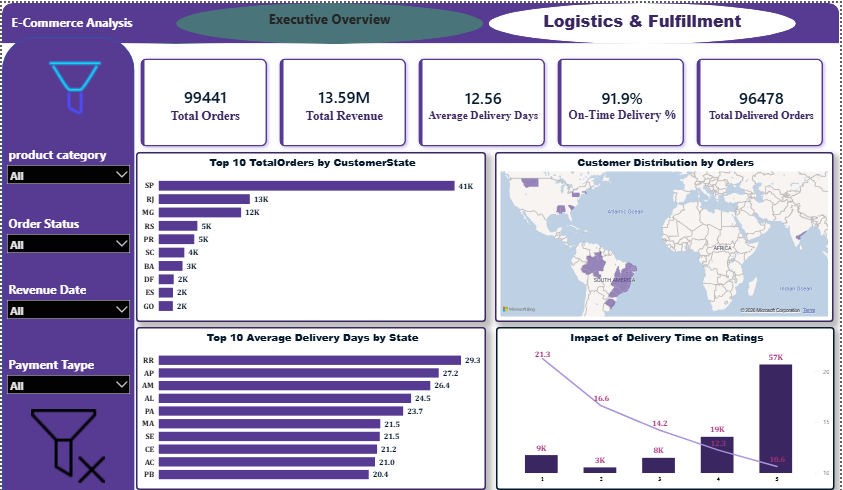

The page's visual inventory and layout, read from the dashboard file:
{"tool":"powerbi","page":{"name":"Logistics & Fulfillment","canvas":[1675,980],"ordinal":1},"visuals":[{"type":"cardVisual","fields":{"Data":["_Measures.Total Orders","_Measures.Total Revenue","_Measures.Average Delivery Days","_Measures.On-Time Delivery %","_Measures.Total Delivered Orders"]},"box":[248,82,1426,234],"z":0},{"type":"pageNavigator","box":[39.8,0,1240.2,82.8],"z":1000},{"type":"shape","box":[0,0,1674.4,81],"z":2000},{"type":"shape","box":[0,67.5,265,912.5],"z":3000},{"type":"pageNavigator","box":[347.8,0,1240.2,82.8],"z":4000},{"type":"textbox","box":[14.7,16.6,303.6,51.5],"z":5000},{"type":"clusteredBarChart","title":"Top 10 TotalOrders by CustomerState","fields":{"Category":["vw_CustomerGeography.CustomerState"],"Y":["Sum(vw_CustomerGeography.TotalOrders)"]},"box":[268,298,700,340],"z":6000},{"type":"filledMap","title":"Customer Distribution by Orders","fields":{"Category":["vw_CustomerGeography.CustomerState"]},"box":[986.7,298.3,676.7,340],"z":7000},{"type":"clusteredBarChart","title":"Top 10 Average Delivery Days by State","fields":{"Category":["vw_State_Delivery_Performance.customer_state"],"Y":["Sum(vw_State_Delivery_Performance.avg_delivery_days)"]},"box":[268,648,700,326],"z":8000},{"type":"lineClusteredColumnComboChart","title":"Impact of Delivery Time on Ratings","fields":{"Y":["Sum(vw_Delivery_vs_Reviews.total_reviews)"],"Category":["vw_Delivery_vs_Reviews.review_score"],"Y2":["Sum(vw_Delivery_vs_Reviews.avg_delivery_days)"]},"box":[987,648,677,326],"z":9000},{"type":"slicer","fields":{"Values":["vw_Product_Category_Performance.product_category_name_english"]},"box":[0,280,266,98],"z":9001},{"type":"slicer","fields":{"Values":["vw_OrderStatusBreakdown.order_status"]},"box":[0,418,266,98],"z":9002},{"type":"image","box":[58,96,176,146],"z":9003},{"type":"slicer","fields":{"Values":["vw_MonthlySales.SalesYear","vw_MonthlySales.SalesMonth"]},"box":[0,574,266,98],"z":9004},{"type":"slicer","fields":{"Values":["vw_Payment_Type_Performance.payment_type"]},"box":[0,728,266,98],"z":9005}]}

Visuals, with their boxes in screenshot pixels (x1, y1, x2, y2), scaled from the page's 1675x980 canvas onto the 843x490 screenshot:
cardVisual - _Measures.Total Orders x _Measures.Total Revenue: BBox(125, 41, 842, 158)
pageNavigator: BBox(20, 0, 644, 41)
shape: BBox(0, 0, 842, 40)
shape: BBox(0, 34, 133, 489)
pageNavigator: BBox(175, 0, 799, 41)
textbox: BBox(7, 8, 160, 34)
"Top 10 TotalOrders by CustomerState" clusteredBarChart: BBox(135, 149, 487, 319)
"Customer Distribution by Orders" filledMap: BBox(497, 149, 837, 319)
"Top 10 Average Delivery Days by State" clusteredBarChart: BBox(135, 324, 487, 487)
"Impact of Delivery Time on Ratings" lineClusteredColumnComboChart: BBox(497, 324, 837, 487)
slicer - vw_Product_Category_Performance.product_category_name_english: BBox(0, 140, 134, 189)
slicer - vw_OrderStatusBreakdown.order_status: BBox(0, 209, 134, 258)
image: BBox(29, 48, 118, 121)
slicer - vw_MonthlySales.SalesYear x vw_MonthlySales.SalesMonth: BBox(0, 287, 134, 336)
slicer - vw_Payment_Type_Performance.payment_type: BBox(0, 364, 134, 413)
